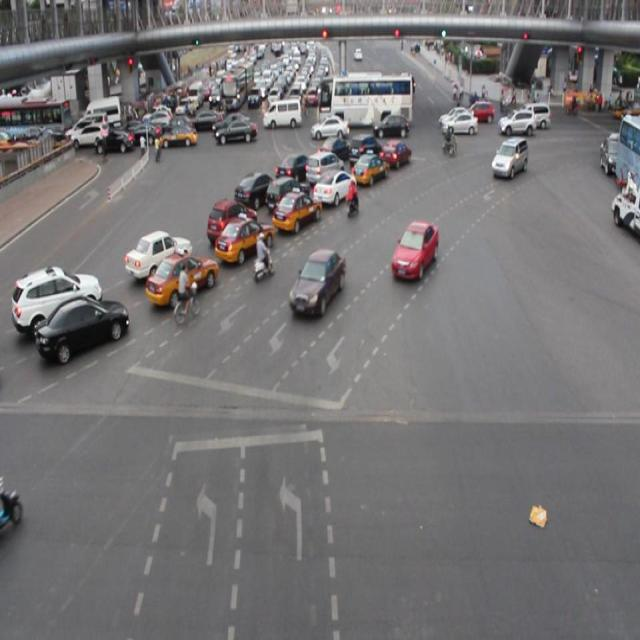car: (12, 265, 103, 330), (36, 298, 130, 356), (148, 250, 218, 300), (289, 250, 344, 312), (124, 230, 192, 280), (391, 221, 438, 279), (215, 218, 272, 262), (206, 197, 257, 239), (273, 191, 320, 234), (490, 136, 528, 180), (313, 169, 355, 206), (265, 176, 308, 212), (234, 172, 274, 205), (350, 150, 384, 188), (306, 153, 346, 185), (276, 150, 312, 185), (345, 131, 379, 166), (380, 136, 411, 172), (318, 136, 348, 165)
